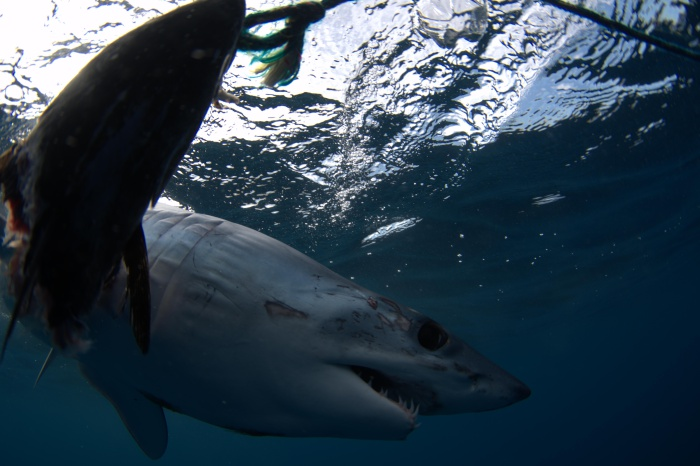Mako: (4, 138, 556, 461)
